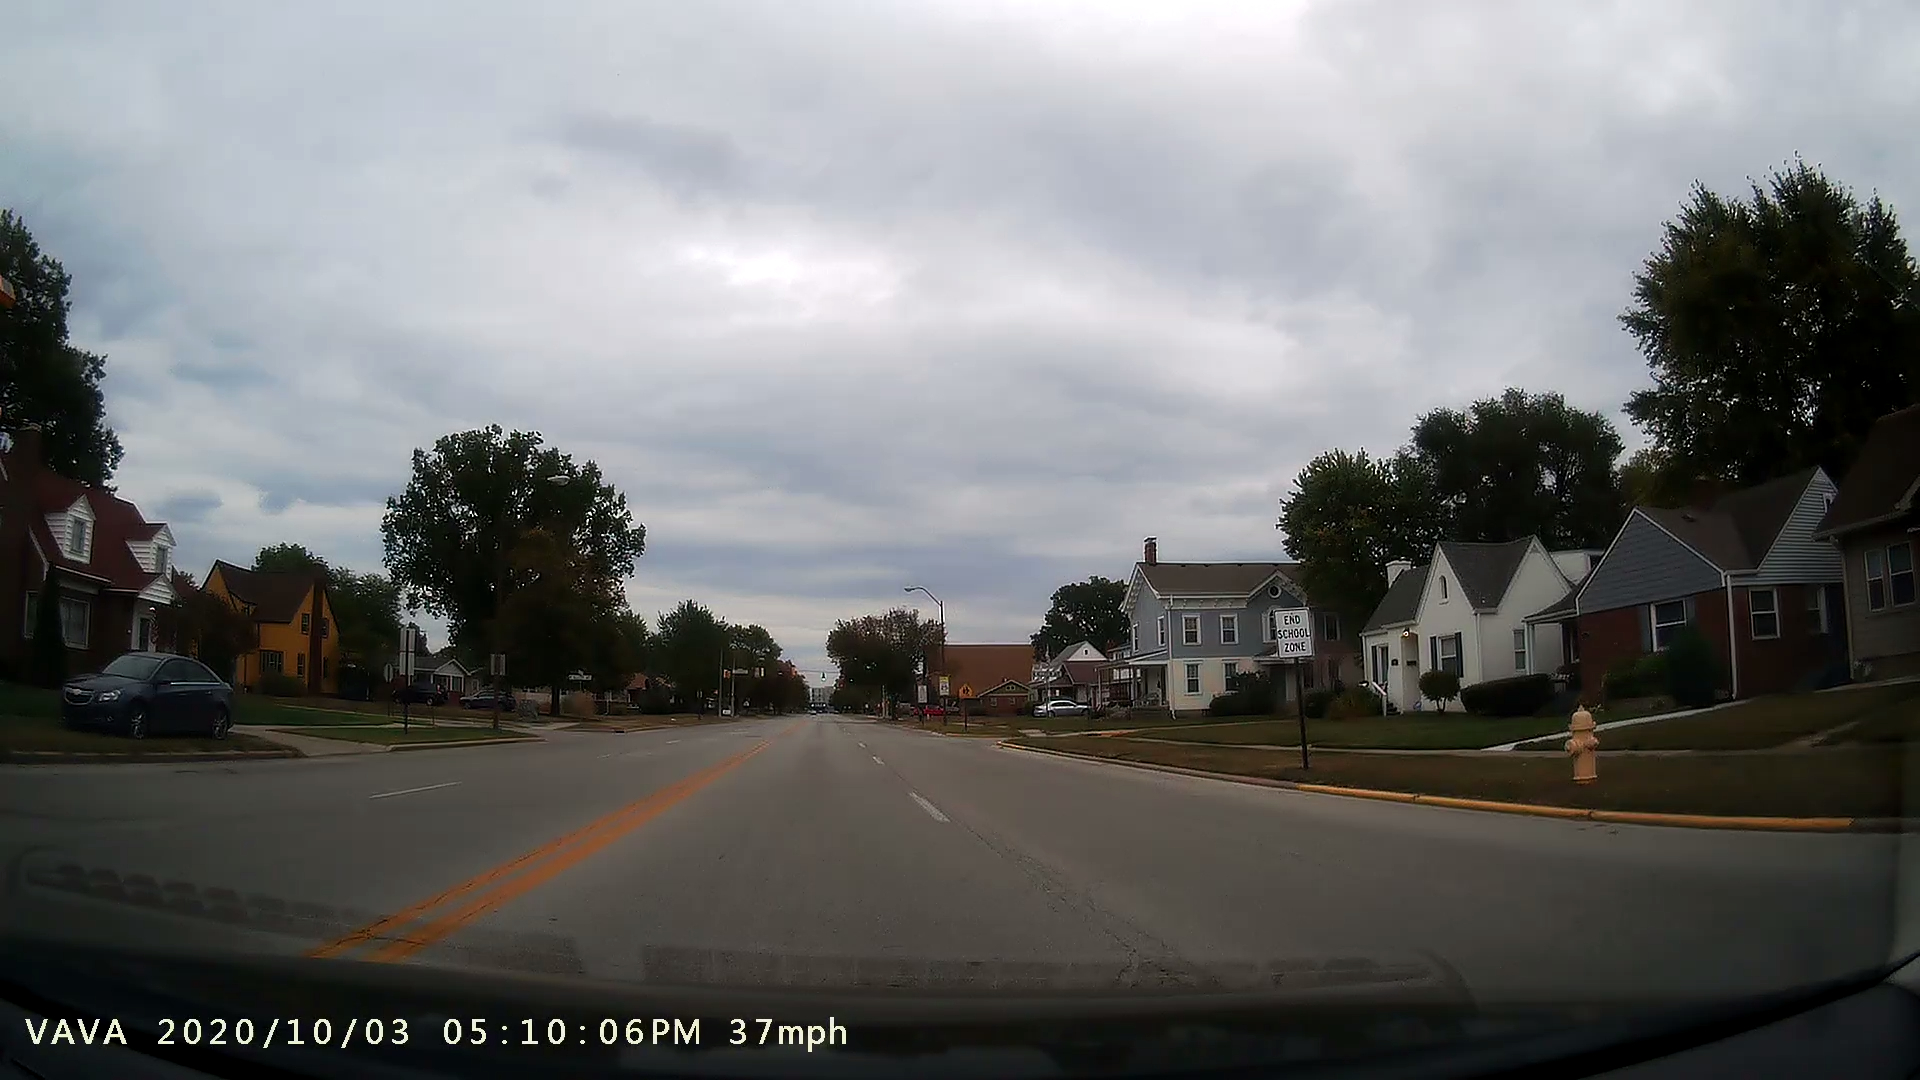fire_hydrant: (1549, 690, 1615, 786)
